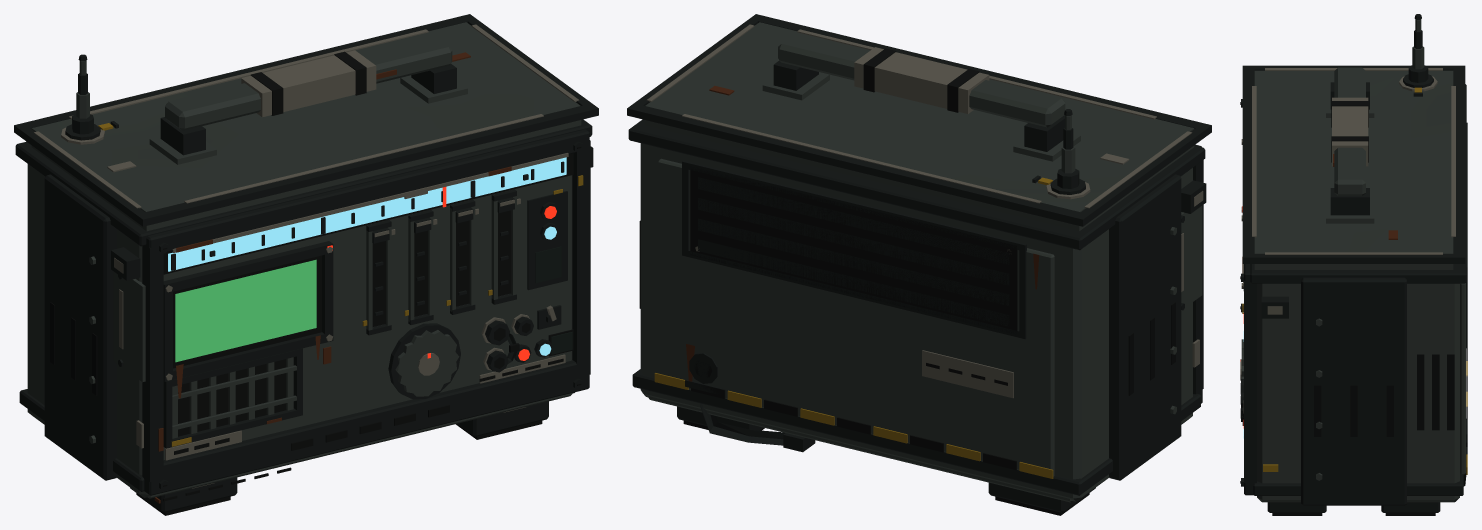
The model's file is radio_field.glb.
The picture shows the model from 3 angles, left to right: view 1: azimuth 30°, elevation 25°; view 2: azimuth 150°, elevation 25°; view 3: azimuth 270°, elevation 25°; orthographic projection. The views are drawn at different scales.
Visible parts, largest first — view 1: RadioBody, Screen; view 2: RadioBody; view 3: RadioBody.
Boxes of the visible parts, x1,y1,x2,y2 form: RadioBody: (14, 14, 598, 515); Screen: (175, 259, 316, 362); RadioBody: (627, 14, 1211, 515); RadioBody: (1240, 14, 1467, 515).
Bounding box in the file's own units: 0.62 × 0.5 × 0.3.
